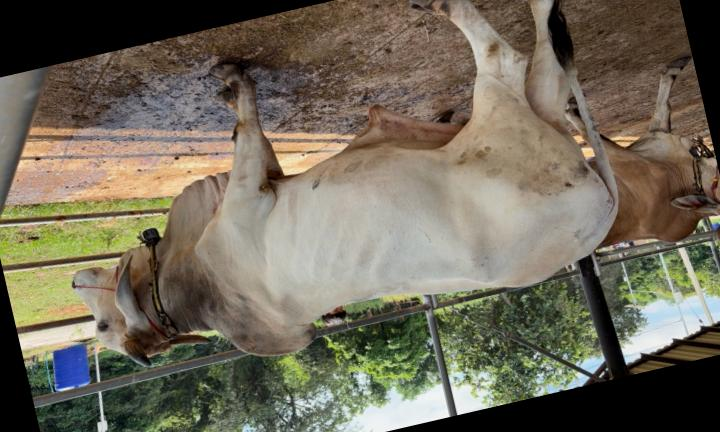Brahman: (74, 0, 619, 365)
